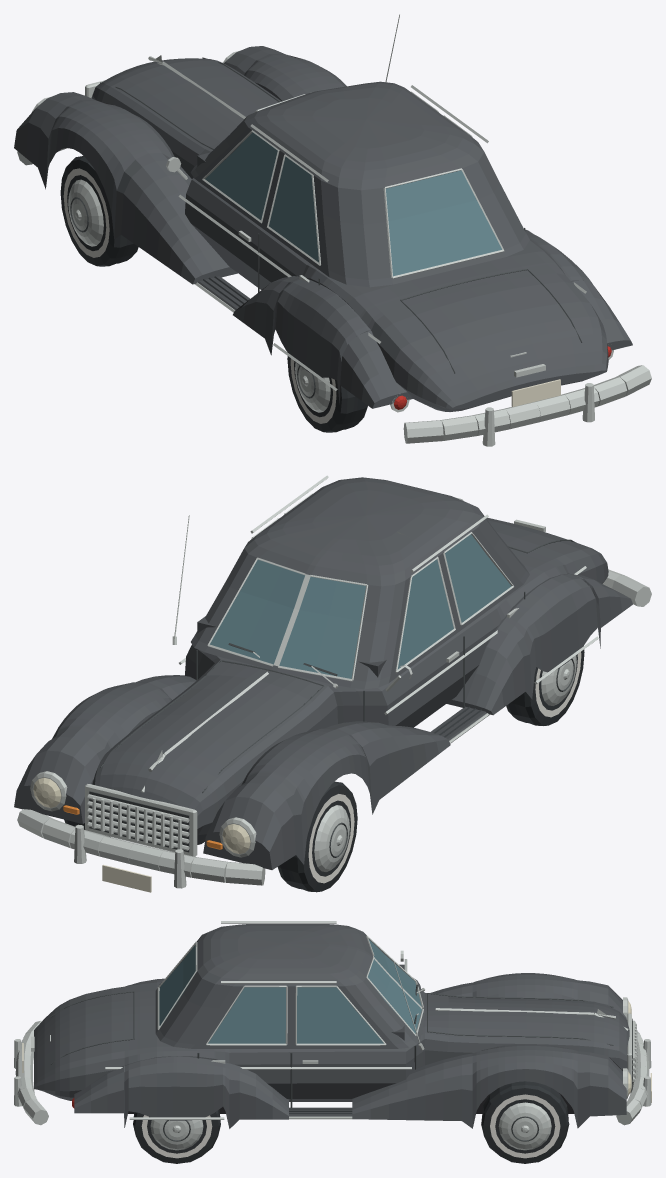
The model's file is 11_sedan_49.glb.
3 views of the same model, one above another, from view 1: azimuth 30°, elevation 25°; view 2: azimuth 150°, elevation 25°; view 3: azimuth 270°, elevation 25° (orthographic). The views are drawn at different scales.
Parts seen in each view (by area): view 1: Body, Exterior_Details, Wheel_FL, Fine_Details, Wheel_RL; view 2: Body, Exterior_Details, Fine_Details, Wheel_FL, Wheel_RL; view 3: Body, Exterior_Details, Wheel_FR, Fine_Details, Wheel_RR.
Part boxes in pixels (bbox=[...]): Body: bbox=[14, 46, 632, 411]; Exterior_Details: bbox=[17, 50, 651, 446]; Wheel_FL: bbox=[60, 156, 138, 266]; Fine_Details: bbox=[19, 14, 605, 404]; Wheel_RL: bbox=[287, 356, 367, 432]; Body: bbox=[14, 477, 632, 869]; Exterior_Details: bbox=[17, 475, 651, 892]; Fine_Details: bbox=[92, 493, 594, 849]; Wheel_FL: bbox=[277, 781, 357, 892]; Wheel_RL: bbox=[506, 646, 584, 725]; Body: bbox=[34, 924, 629, 1128]; Exterior_Details: bbox=[14, 921, 651, 1125]; Wheel_FR: bbox=[481, 1081, 569, 1163]; Fine_Details: bbox=[50, 935, 637, 1119]; Wheel_RR: bbox=[133, 1109, 220, 1163].
Bounding box in the file's own units: 1.97 × 1.83 × 5.35.
